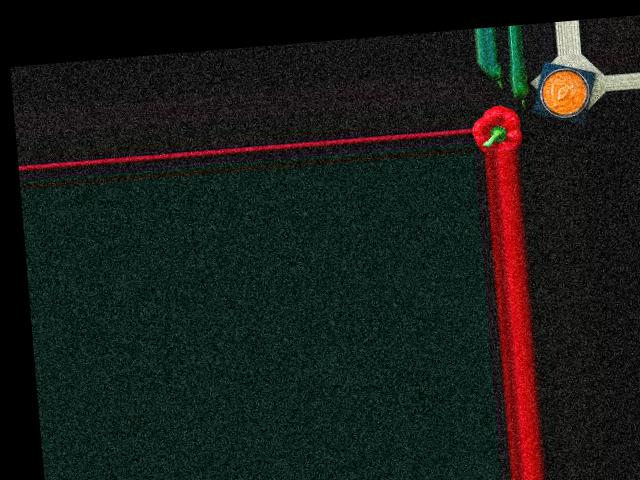bell_pepper: (472, 105, 523, 153)
